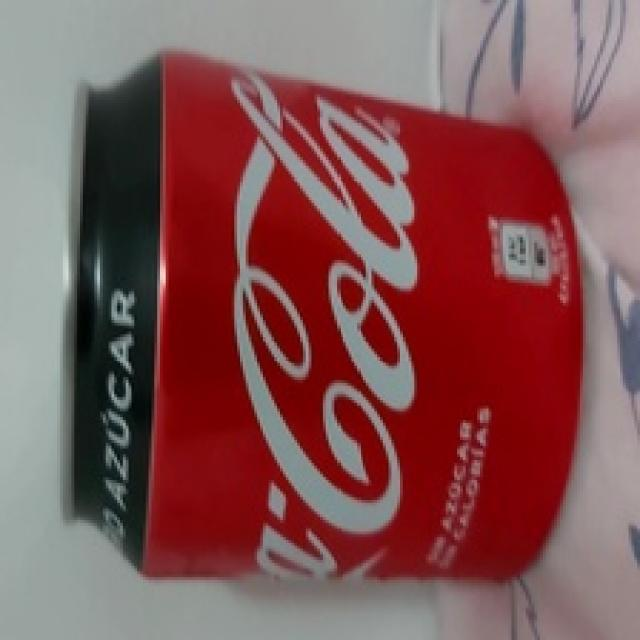recyclable: (59, 49, 584, 583)
